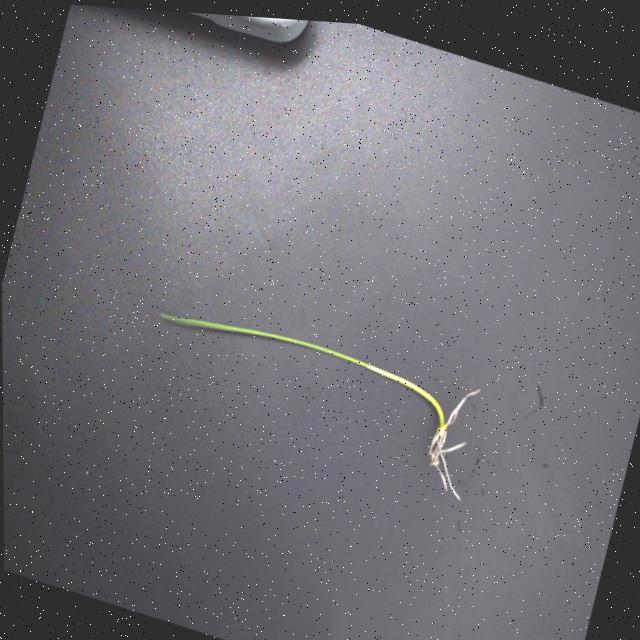leaf: (155, 306, 360, 369)
root: (431, 386, 482, 498)
steb: (361, 362, 444, 416)
